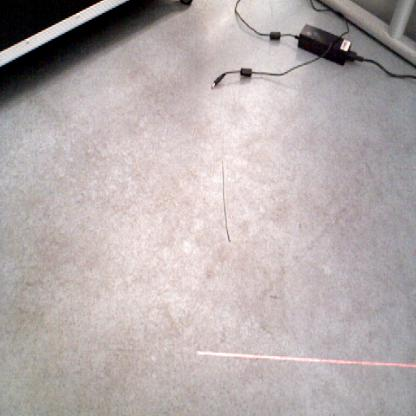mark: (221, 134, 231, 244), (269, 292, 282, 302), (298, 219, 302, 230)
